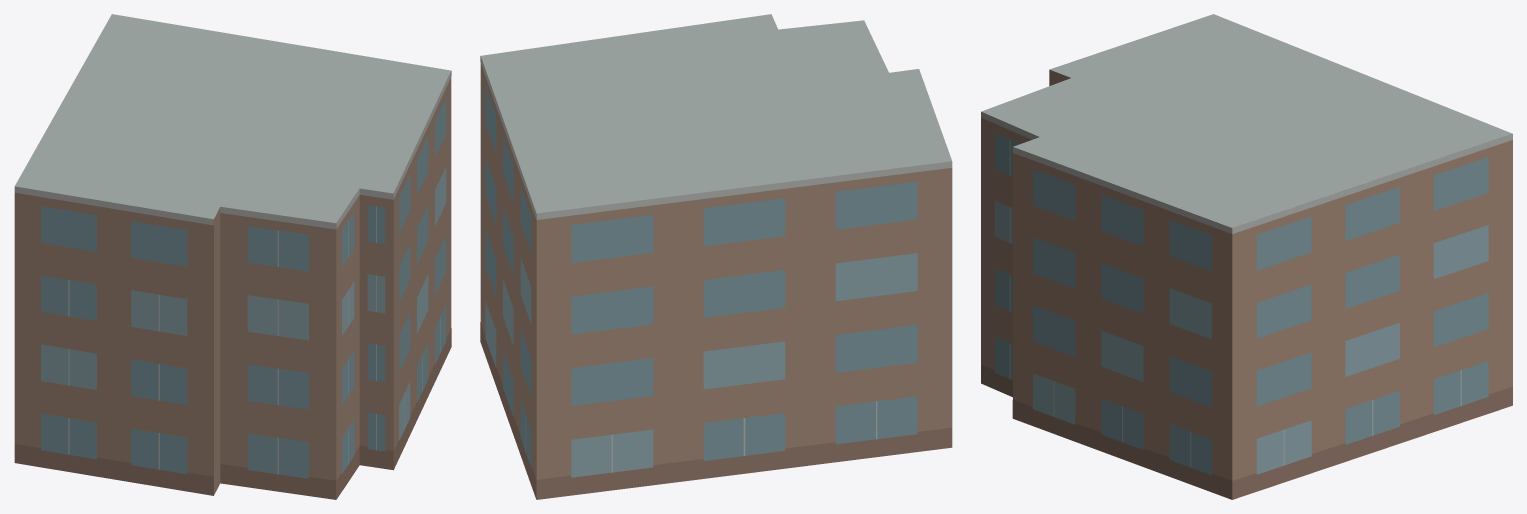
File: survey-upis-32961047.glb
3 renders of one model, left to right at view 1: azimuth 30°, elevation 25°; view 2: azimuth 150°, elevation 25°; view 3: azimuth 270°, elevation 25°, orthographic. The views are drawn at different scales.
Visible parts, largest first — view 1: survey-upis-32961047.tmp; view 2: survey-upis-32961047.tmp; view 3: survey-upis-32961047.tmp.
Part boxes in pixels (x1=…): survey-upis-32961047.tmp: x1=14, y1=14, x2=451, y2=499; survey-upis-32961047.tmp: x1=480, y1=14, x2=952, y2=499; survey-upis-32961047.tmp: x1=981, y1=14, x2=1512, y2=499.
Size of the model in its own units: 18.38 by 10.88 by 19.3.
